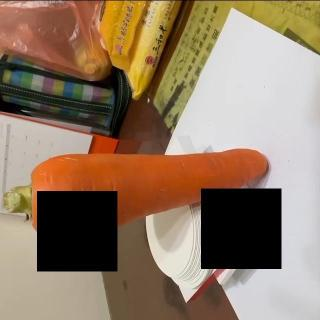carrot: (2, 146, 270, 242)
